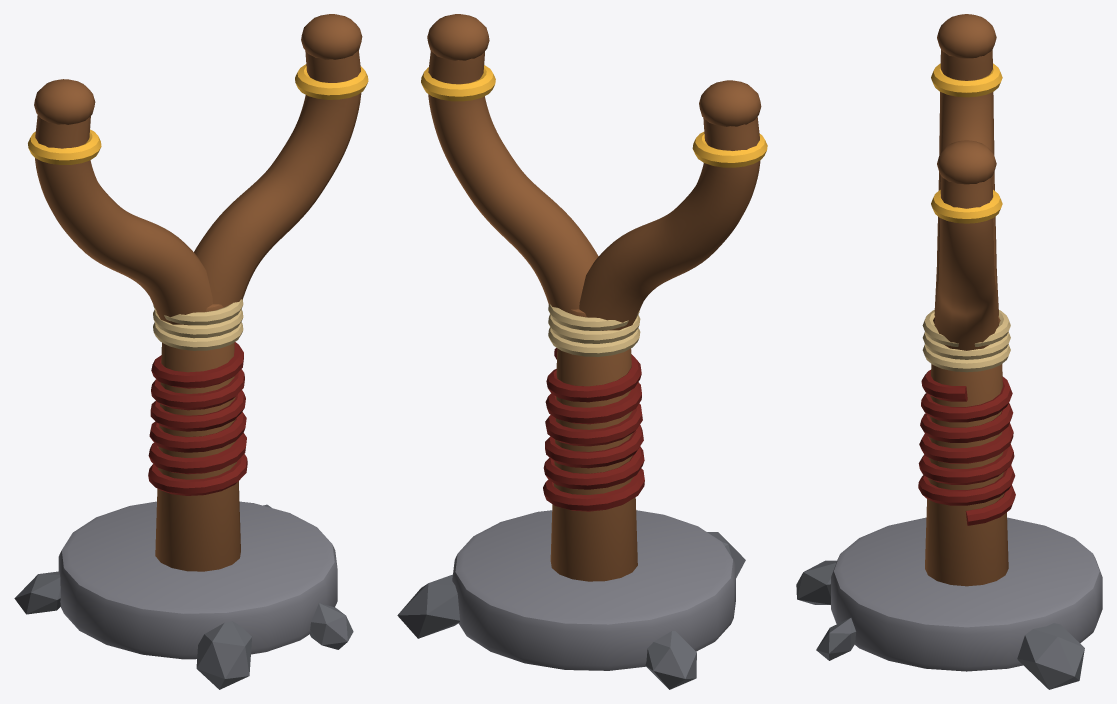
File: Slingshot.fbx
3 views of the same model, side by side, from view 1: azimuth 30°, elevation 25°; view 2: azimuth 150°, elevation 25°; view 3: azimuth 270°, elevation 25° (orthographic). The views are drawn at different scales.
Parts seen in each view (by area): view 1: Fork, Base, Grip, Stem, Rocks, Binding, TipRight, TipLeft; view 2: Fork, Base, Grip, Stem, Rocks, Binding, TipRight, TipLeft; view 3: Base, Fork, Grip, Stem, Rocks, Binding, TipLeft, TipRight.
Boxes of the visible parts, box(x1,y1,x2,y2) form: Fork: box(34, 14, 362, 325); Base: box(58, 501, 337, 659); Grip: box(148, 342, 247, 495); Stem: box(155, 304, 240, 571); Rocks: box(14, 504, 353, 689); Binding: box(153, 299, 243, 350); TipRight: box(295, 64, 368, 99); TipLeft: box(28, 129, 101, 164); Fork: box(427, 14, 761, 330); Base: box(452, 510, 735, 670); Grip: box(543, 348, 644, 511); Stem: box(550, 309, 637, 581); Rocks: box(397, 532, 745, 689); Binding: box(548, 304, 640, 356); TipRight: box(421, 65, 495, 101); TipLeft: box(692, 132, 767, 167); Base: box(831, 517, 1102, 671); Fork: box(934, 14, 998, 350); Grip: box(918, 370, 1015, 525); Stem: box(925, 316, 1008, 586); Rocks: box(796, 560, 1084, 689); Binding: box(922, 310, 1010, 372); TipLeft: box(931, 63, 1002, 97); TipRight: box(931, 190, 1002, 223).
Size of the model in its own units: 5.46 by 8.96 by 4.51.
